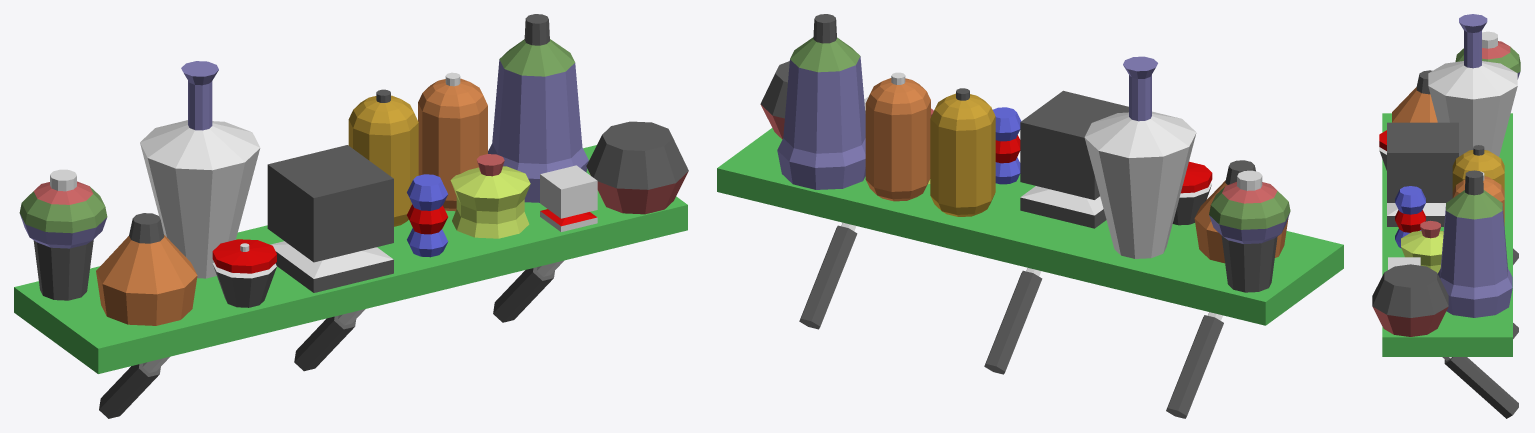
The model's file is DrinkShelf.fbx.
The picture shows the model from 3 angles, left to right: view 1: azimuth 30°, elevation 25°; view 2: azimuth 150°, elevation 25°; view 3: azimuth 270°, elevation 25°; orthographic projection. The views are drawn at different scales.
Visible parts, largest first — view 1: pCube462, pCube463, pCylinder37, pCylinder36, pCylinder34, pCylinder44, pCylinder38, pCylinder45, pCylinder39, pCylinder35, pCylinder40, pCylinder30 (×2) (+5 smaller); view 2: pCube462, pCylinder37, pCylinder36, pCube463, pCylinder39, pCylinder45, pCylinder44, pCylinder30 (×2), pCylinder32, pCylinder34, pCylinder40, pCylinder38 (+1 smaller); view 3: pCylinder36, pCylinder37, pCube462, pCube463, pCylinder38, pCylinder30, pCylinder35, pCylinder39, pCylinder34, pCylinder44, pCylinder43, pCylinder45 (+3 smaller).
Part boxes in pixels (box(x1,y1,x2,y2)): pCube462: box(14, 145, 687, 373); pCube463: box(267, 145, 393, 292); pCylinder37: box(140, 61, 260, 278); pCylinder36: box(488, 14, 588, 202); pCylinder34: box(96, 213, 197, 325); pCylinder44: box(19, 169, 107, 300); pCylinder38: box(586, 121, 688, 214); pCylinder45: box(418, 72, 487, 211); pCylinder39: box(348, 89, 418, 226); pCylinder35: box(450, 154, 530, 238); pCylinder40: box(212, 239, 276, 307); pCylinder30 (×2): box(99, 267, 554, 418); pCube462: box(717, 128, 1343, 325); pCylinder37: box(1084, 56, 1196, 258); pCylinder36: box(777, 14, 865, 189); pCube463: box(1020, 90, 1128, 228); pCylinder39: box(930, 88, 995, 216); pCylinder45: box(865, 72, 930, 201); pCylinder44: box(1209, 170, 1290, 292); pCylinder30 (×2): box(799, 225, 1223, 418); pCylinder32: box(984, 270, 1042, 374); pCylinder34: box(1194, 160, 1288, 263); pCylinder40: box(1172, 161, 1212, 225); pCylinder38: box(760, 61, 789, 139); pCylinder36: box(1438, 170, 1512, 317); pCylinder37: box(1428, 14, 1517, 156); pCube462: box(1382, 113, 1512, 356); pCube463: box(1387, 122, 1458, 226); pCylinder38: box(1372, 264, 1448, 336); pCylinder30: box(1444, 357, 1518, 418); pCylinder35: box(1401, 220, 1443, 273); pCylinder39: box(1452, 145, 1504, 191); pCylinder34: box(1392, 70, 1437, 122); pCylinder44: box(1455, 31, 1520, 79); pCylinder43: box(1395, 186, 1425, 214); pCylinder45: box(1452, 171, 1504, 225).
Size of the model in its own units: 1.92 by 1.05 by 0.5222.
